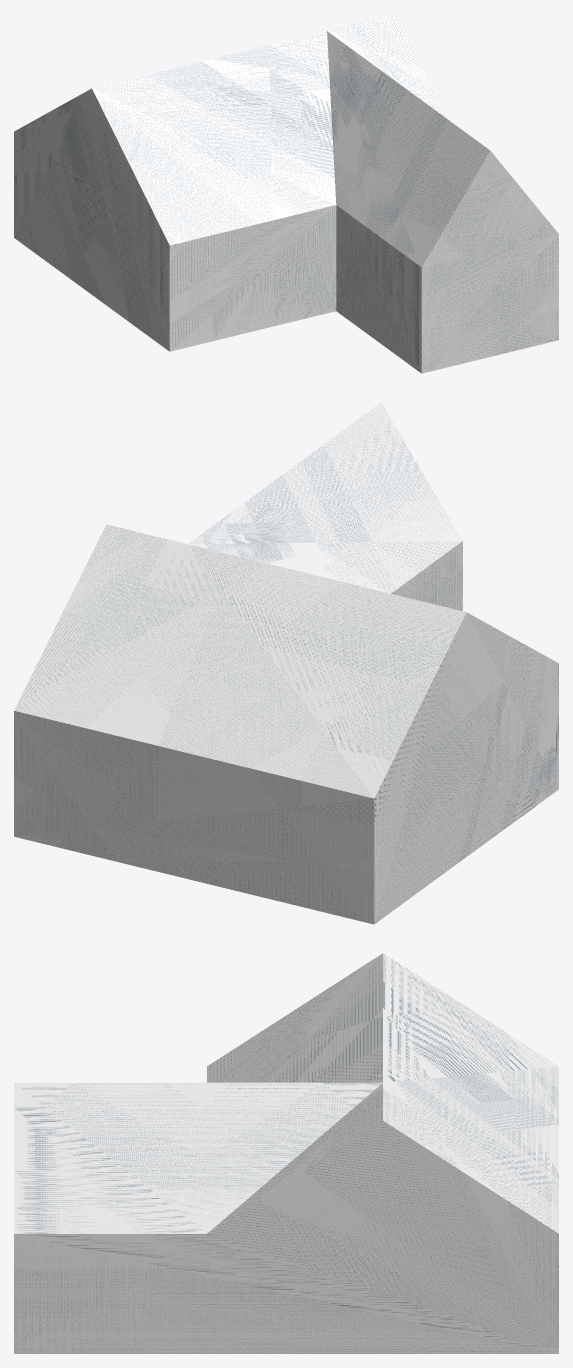
Rendered from stadt_haus_02.dae.
3 renders of one model, top to bottom at view 1: azimuth 30°, elevation 25°; view 2: azimuth 150°, elevation 25°; view 3: azimuth 270°, elevation 25°, orthographic. The views are drawn at different scales.
Parts seen in each view (by area): view 1: SketchUp; view 2: SketchUp; view 3: SketchUp.
Part boxes in pixels (x1,y1,x2,y2): SketchUp: (14, 14, 558, 373); SketchUp: (14, 402, 558, 924); SketchUp: (14, 953, 558, 1353).
Bounding box in the file's own units: 355 × 488 × 230.
